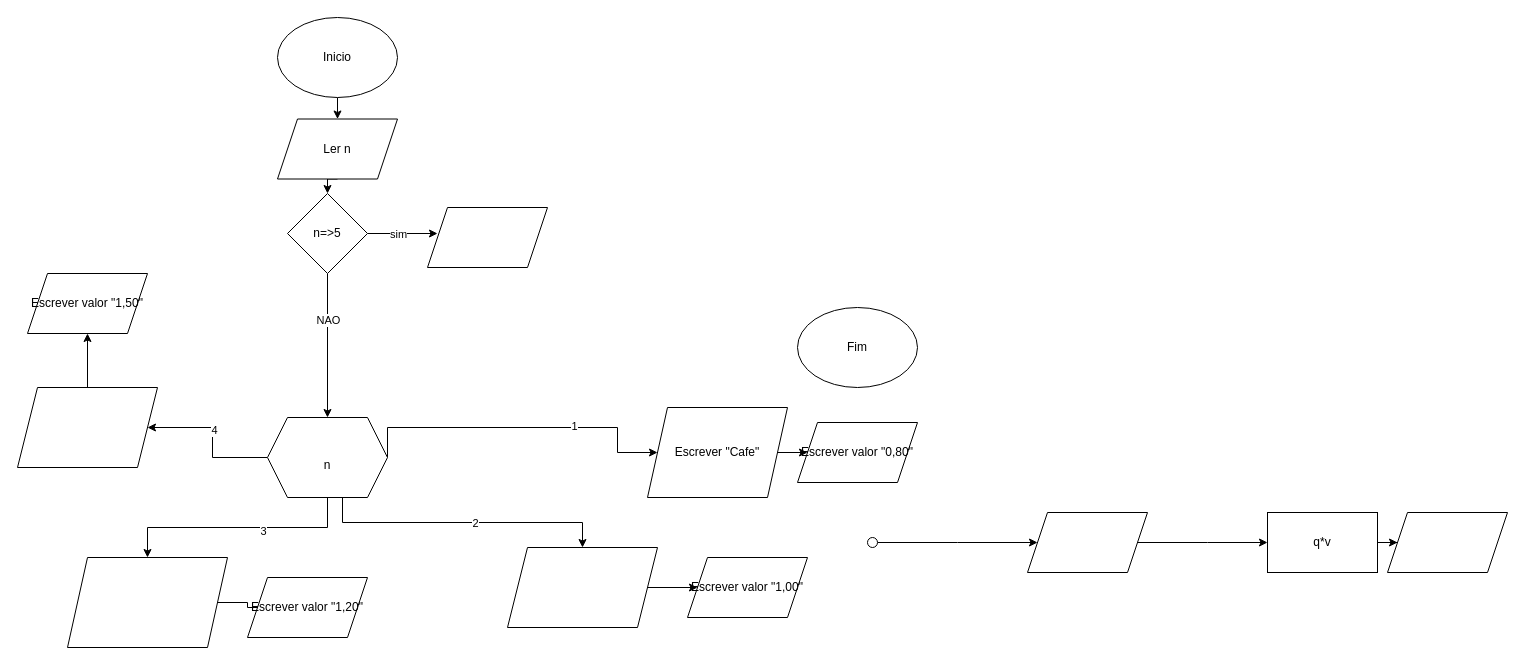
Image size: 1525x665. Some labels were removed from this diagram. The shapes that lost their labels are listed below. From the top down, each one's centre as x and y in pixels, then its label:
the point at 487,237: escrever "Opçao invalida"
the point at 87,427: Escrever "cappucicno,1,50"
the point at 1087,542: Ler quantidade
the point at 147,602: Escrever "chocolate quente,1,20"
the point at 582,587: Escrever "cha,1,00"
